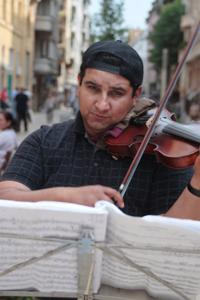person: (2, 41, 200, 227)
